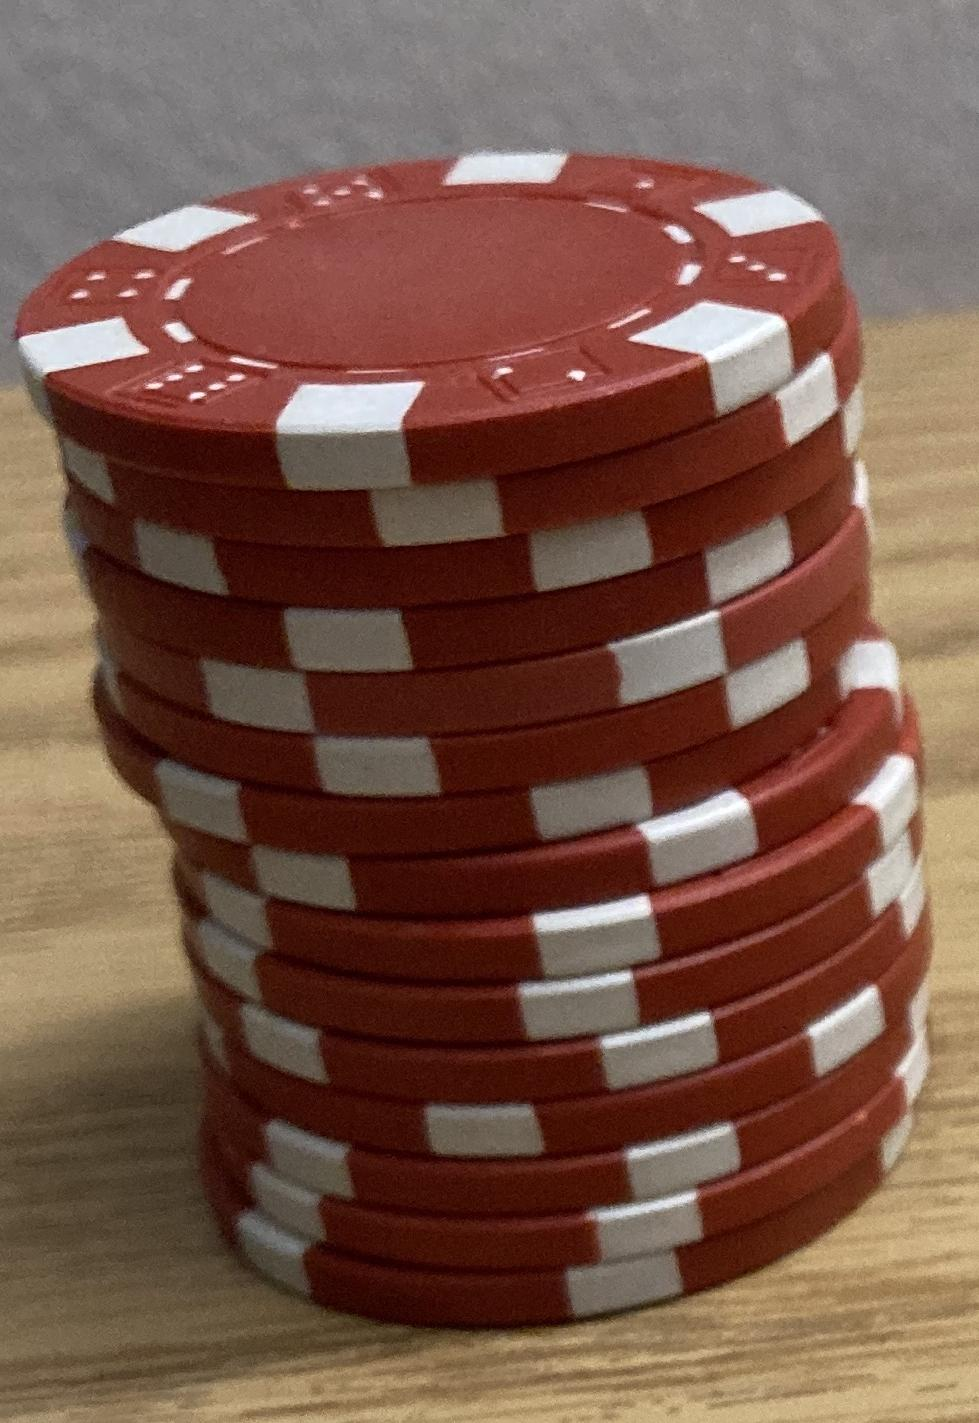Chip: (1, 1, 979, 1423)
